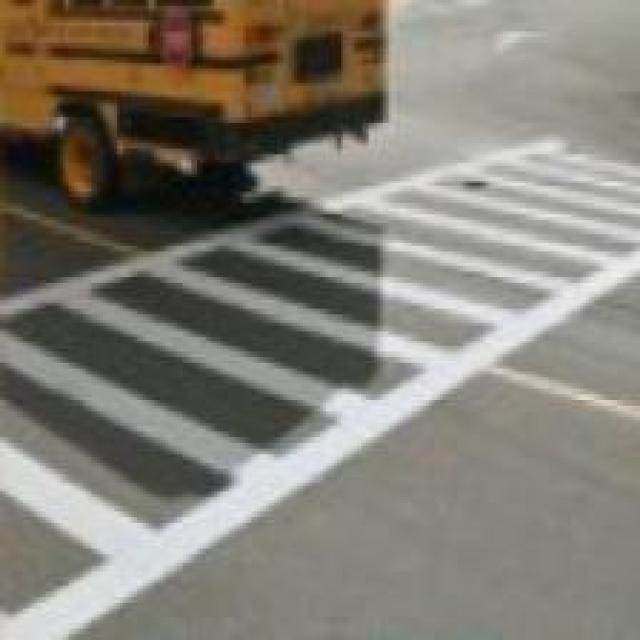walk-crossing: (1, 136, 640, 636)
